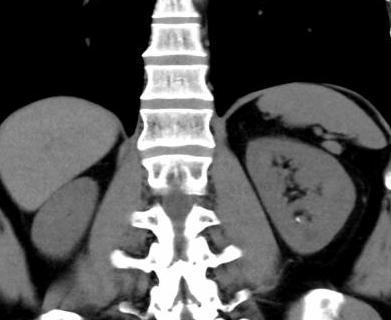Tas_Var: (294, 216, 302, 223)
